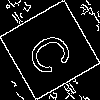C: (25, 25, 83, 80)
